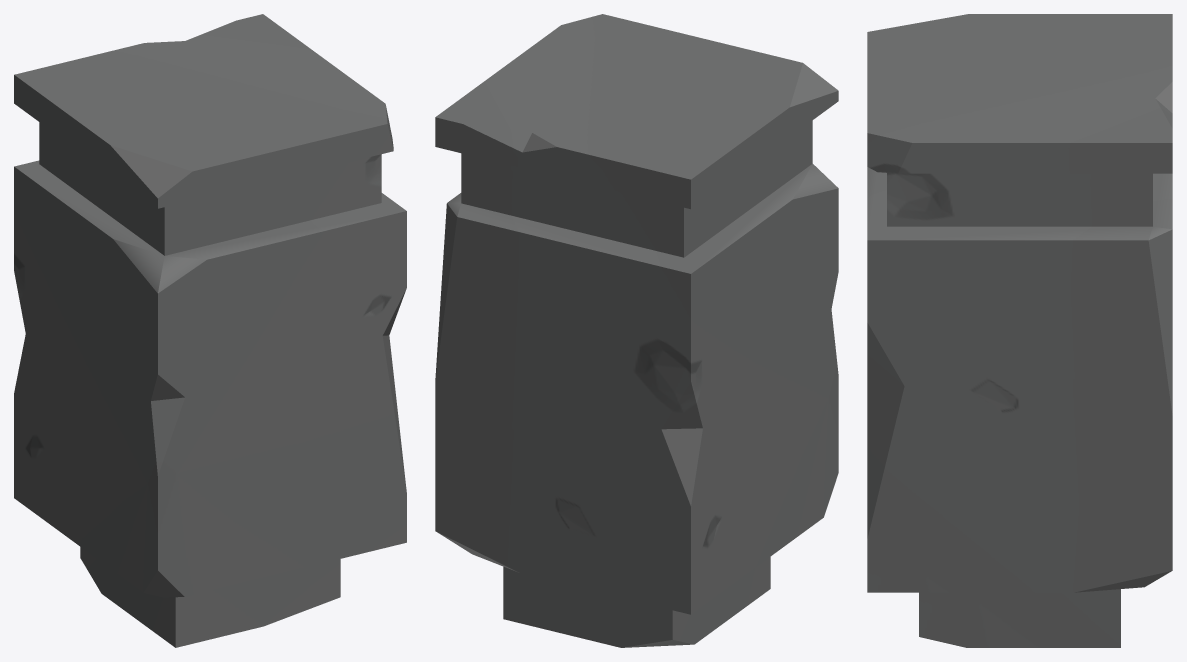
The model's file is SM_Bld_Battlements_End_04.fbx.
3 renders of one model, left to right at view 1: azimuth 30°, elevation 25°; view 2: azimuth 150°, elevation 25°; view 3: azimuth 270°, elevation 25°, orthographic. The views are drawn at different scales.
Visible parts, largest first — view 1: SM_Bld_Battlements_End_04; view 2: SM_Bld_Battlements_End_04; view 3: SM_Bld_Battlements_End_04.
Part boxes in pixels (left/top/right/bottom): SM_Bld_Battlements_End_04: left=14, top=14, right=406, bottom=647; SM_Bld_Battlements_End_04: left=435, top=14, right=838, bottom=647; SM_Bld_Battlements_End_04: left=867, top=14, right=1172, bottom=647.
Size of the model in its own units: 124 by 236 by 124.
